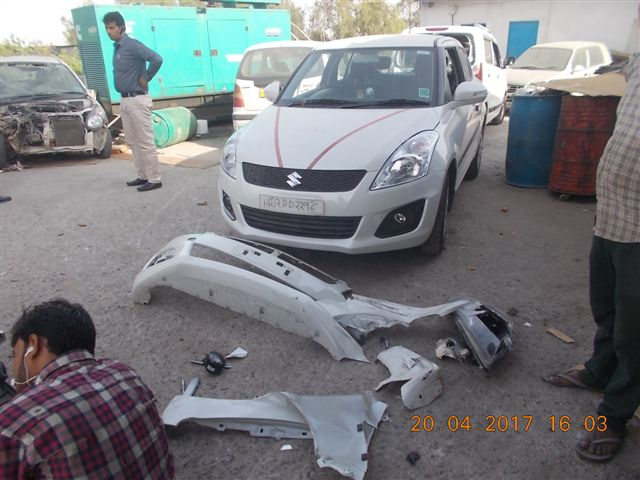Scratch_or_spot: (324, 328, 340, 366), (319, 372, 330, 396)
Tear: (67, 300, 161, 392), (490, 308, 541, 375)
